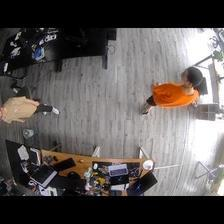normal: (143, 66, 202, 115), (1, 94, 61, 123)
